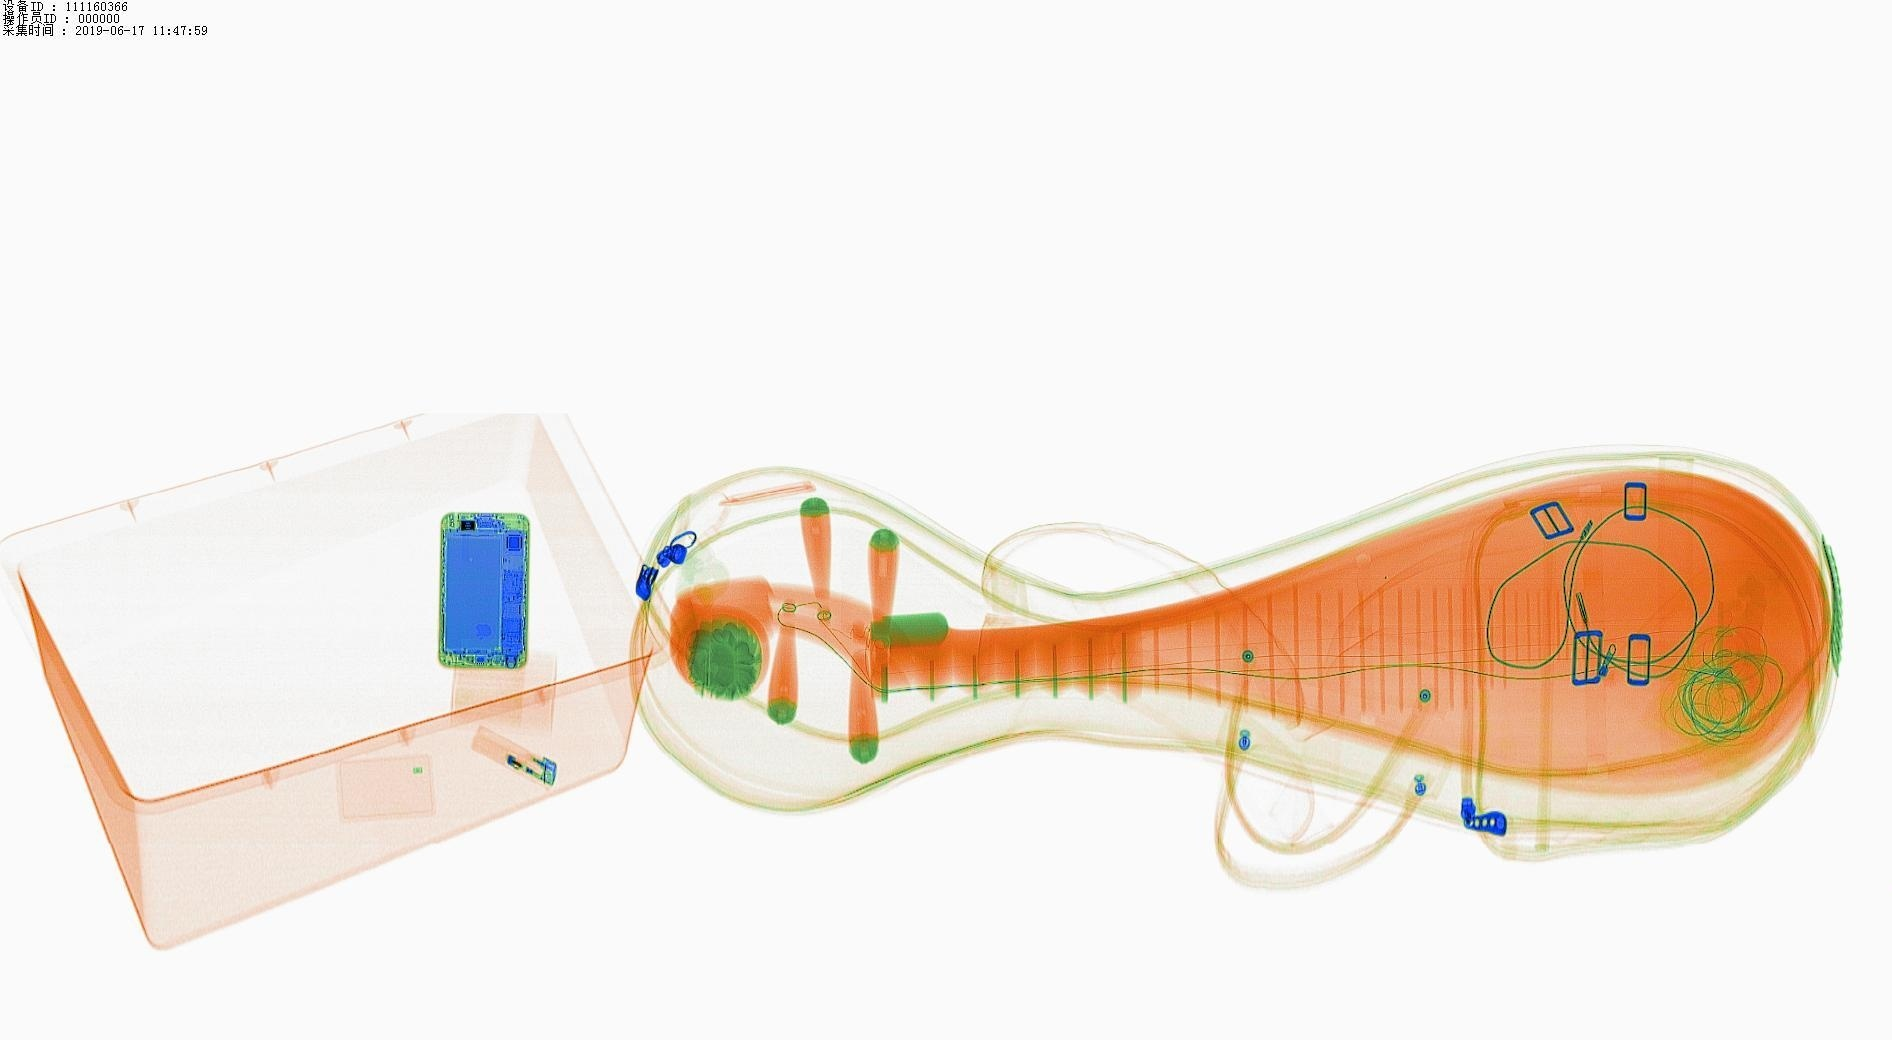NonmetallicFire: (472, 724, 580, 803)
